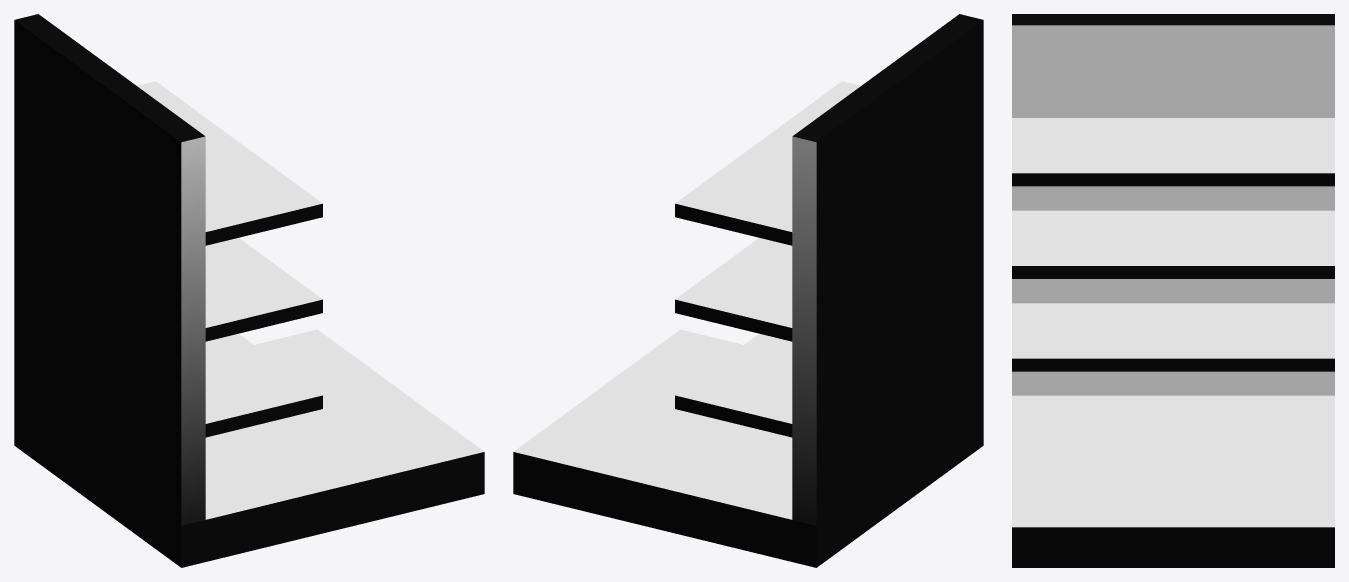
The model's file is CandyShelf.obj.
3 renders of one model, left to right at view 1: azimuth 30°, elevation 25°; view 2: azimuth 150°, elevation 25°; view 3: azimuth 270°, elevation 25°, orthographic. The views are drawn at different scales.
Visible parts, largest first — view 1: Candy_shelf_Cube.025; view 2: Candy_shelf_Cube.025; view 3: Candy_shelf_Cube.025.
Part boxes in pixels (x1,y1,x2,y2): Candy_shelf_Cube.025: (14, 14, 484, 567); Candy_shelf_Cube.025: (513, 14, 983, 567); Candy_shelf_Cube.025: (1012, 14, 1334, 567).
Bounding box in the file's own units: 2.09 × 2.81 × 2.
